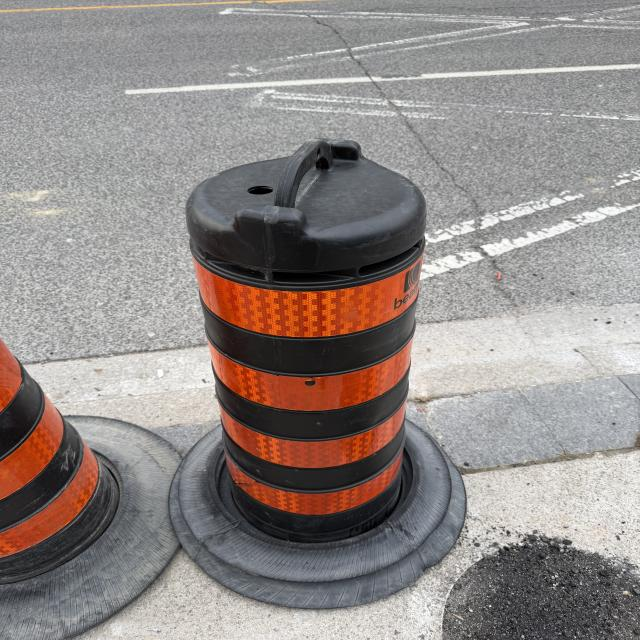Teraffic Barrel: (172, 140, 464, 607), (0, 340, 179, 640)
